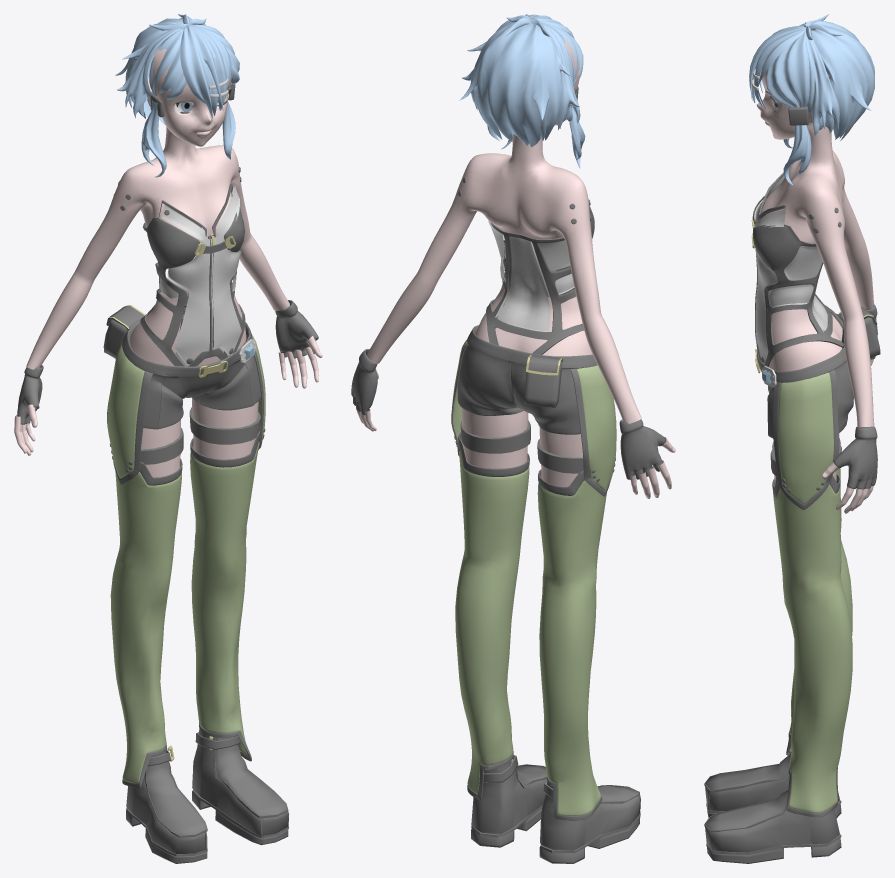
File: sinon-sword-art-online.fbx
The picture shows the model from 3 angles, left to right: view 1: azimuth 30°, elevation 25°; view 2: azimuth 150°, elevation 25°; view 3: azimuth 270°, elevation 25°; orthographic projection. The views are drawn at different scales.
Visible parts, largest first — view 1: 3DSMesh_15_11, 3DSMesh_35_29, 3DSMesh_5_5, 3DSMesh_33_28, 3DSMesh_21_16, 3DSMesh_34_28, 3DSMesh_13_10, 3DSMesh_31_26, 3DSMesh_0_0, 3DSMesh_29_24, 3DSMesh_11_9, 3DSMesh_14_11 (+6 smaller); view 2: 3DSMesh_15_11, 3DSMesh_35_29, 3DSMesh_5_5, 3DSMesh_26_21, 3DSMesh_21_16, 3DSMesh_33_28, 3DSMesh_13_10, 3DSMesh_34_28, 3DSMesh_0_0, 3DSMesh_14_11, 3DSMesh_11_9, 3DSMesh_9_7 (+5 smaller); view 3: 3DSMesh_15_11, 3DSMesh_35_29, 3DSMesh_5_5, 3DSMesh_13_10, 3DSMesh_34_28, 3DSMesh_26_21, 3DSMesh_33_28, 3DSMesh_29_24, 3DSMesh_21_16, 3DSMesh_0_0, 3DSMesh_27_22, 3DSMesh_31_26 (+6 smaller).
Boxes of the visible parts, box(x1,y1,x2,y2) form: 3DSMesh_15_11: box(110, 441, 259, 783); 3DSMesh_35_29: box(14, 46, 322, 477); 3DSMesh_5_5: box(126, 729, 289, 863); 3DSMesh_33_28: box(160, 186, 241, 365); 3DSMesh_21_16: box(122, 312, 260, 429); 3DSMesh_34_28: box(140, 183, 245, 366); 3DSMesh_13_10: box(107, 335, 265, 478); 3DSMesh_31_26: box(180, 24, 231, 118); 3DSMesh_0_0: box(17, 300, 318, 424); 3DSMesh_29_24: box(149, 24, 239, 99); 3DSMesh_11_9: box(140, 407, 260, 464); 3DSMesh_14_11: box(122, 426, 260, 788); 3DSMesh_15_11: box(455, 445, 606, 815); 3DSMesh_35_29: box(356, 38, 675, 498); 3DSMesh_5_5: box(471, 755, 640, 863); 3DSMesh_26_21: box(459, 23, 572, 146); 3DSMesh_21_16: box(457, 325, 597, 434); 3DSMesh_33_28: box(488, 220, 574, 331); 3DSMesh_13_10: box(452, 340, 616, 490); 3DSMesh_34_28: box(486, 205, 594, 354); 3DSMesh_0_0: box(351, 349, 665, 479); 3DSMesh_14_11: box(458, 432, 602, 820); 3DSMesh_11_9: box(460, 420, 583, 473); 3DSMesh_9_7: box(524, 355, 562, 407); 3DSMesh_15_11: box(773, 468, 852, 812); 3DSMesh_35_29: box(756, 69, 874, 513); 3DSMesh_5_5: box(705, 744, 841, 863); 3DSMesh_13_10: box(778, 372, 833, 503); 3DSMesh_34_28: box(752, 172, 843, 366); 3DSMesh_26_21: box(811, 20, 874, 140); 3DSMesh_33_28: box(754, 175, 827, 364); 3DSMesh_29_24: box(766, 23, 809, 107); 3DSMesh_21_16: box(756, 313, 853, 438); 3DSMesh_0_0: box(833, 304, 877, 489); 3DSMesh_27_22: box(804, 22, 839, 135); 3DSMesh_31_26: box(749, 25, 805, 110).
Size of the model in its own units: 311 by 779 by 153.
